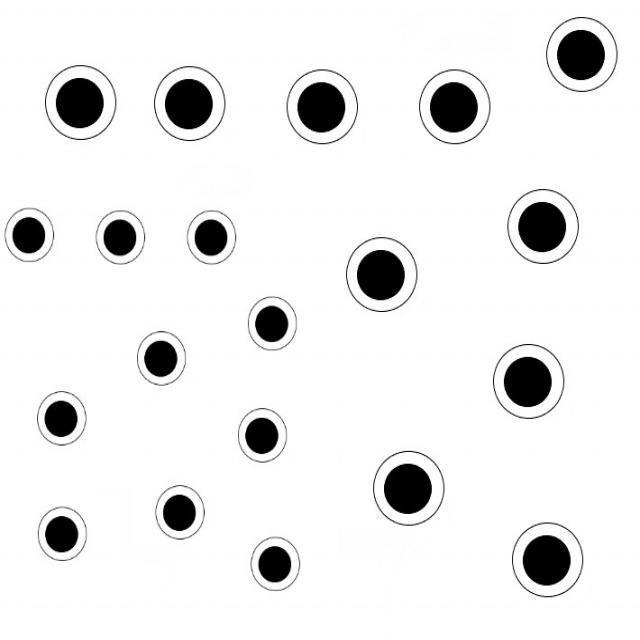radio: (364, 443, 452, 531), (492, 335, 575, 422), (283, 63, 364, 151), (41, 58, 121, 147), (504, 186, 587, 271), (150, 62, 231, 149), (543, 11, 621, 100), (511, 517, 591, 603), (346, 229, 424, 317), (415, 63, 492, 150), (91, 203, 154, 272), (183, 202, 243, 272), (234, 406, 297, 472), (3, 202, 63, 271), (153, 476, 208, 544), (33, 386, 89, 451), (243, 294, 302, 355), (132, 329, 190, 391), (34, 505, 91, 566), (251, 537, 305, 596)
